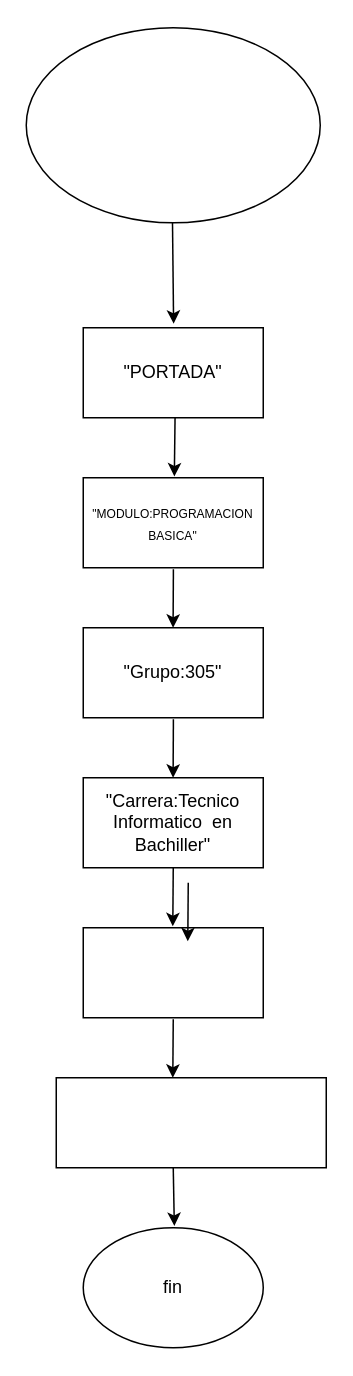
Some shapes in this 353 by 1376 pixel diagram are drawn without their labels. The shapes that lost their labels are listed below. From the top down, each one's centre as x and y in pixels, then its label:
pixel 172 124: iniciio
pixel 172 972: "Nombre:Maria del carmen Sambrano Castañeda"
pixel 190 1122: "correo:msambrano2822@conalepmex.edu.mx"
